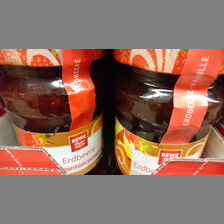jam: (110, 49, 222, 175), (1, 49, 105, 175)
